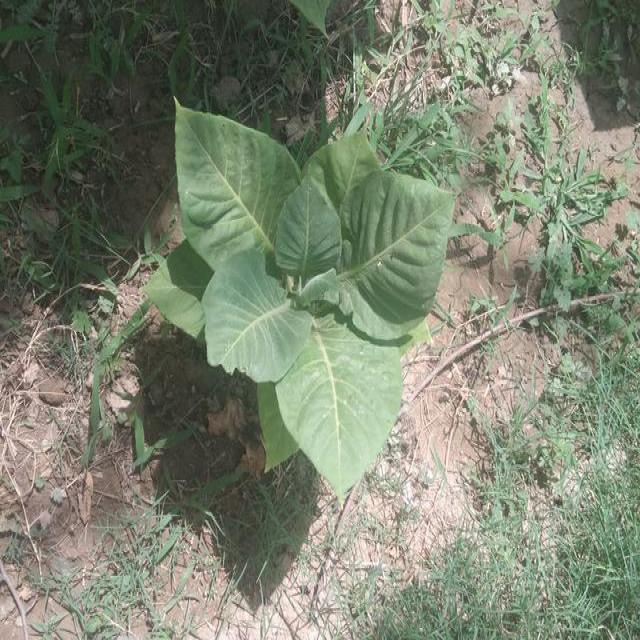crop: (145, 74, 465, 508)
